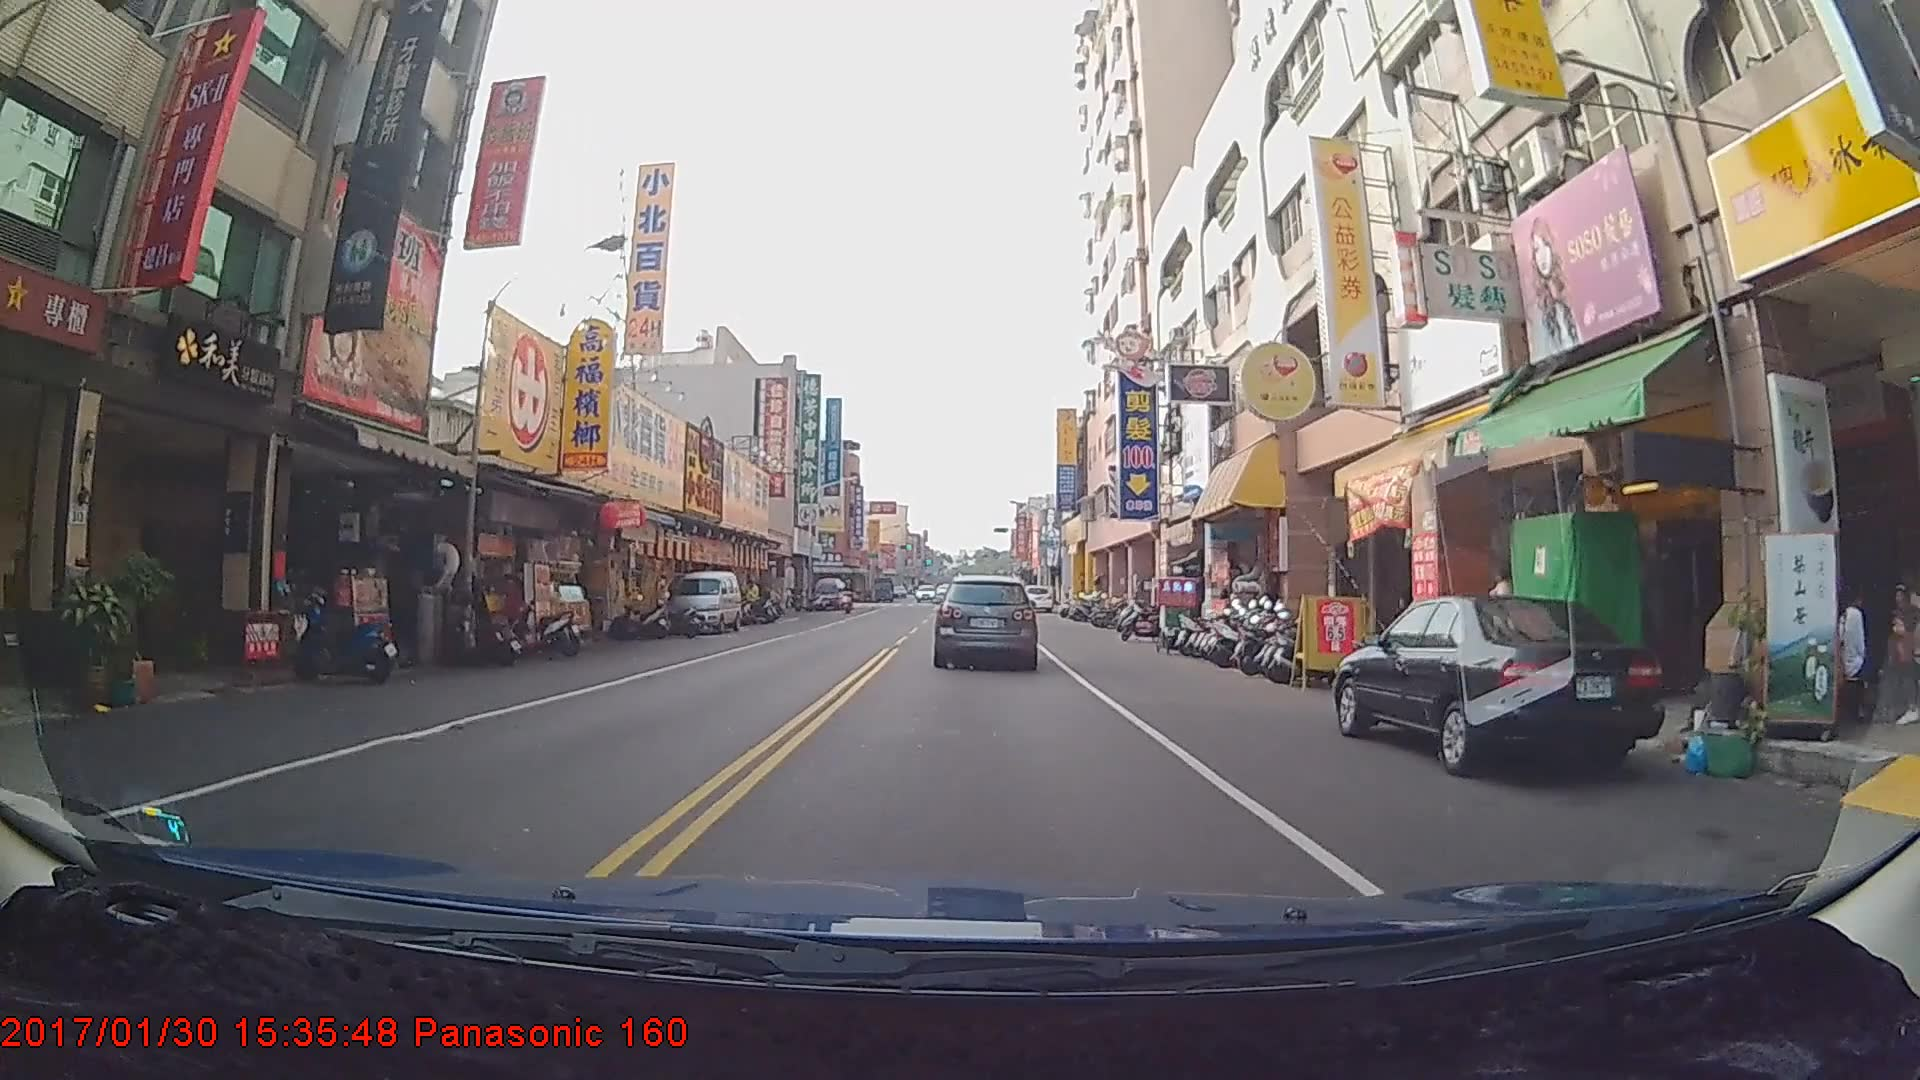pedestrian: (1838, 582, 1894, 725)
vehicle: (1337, 589, 1663, 775), (935, 575, 1037, 668), (667, 567, 740, 632), (813, 573, 843, 606), (1019, 580, 1051, 608)
